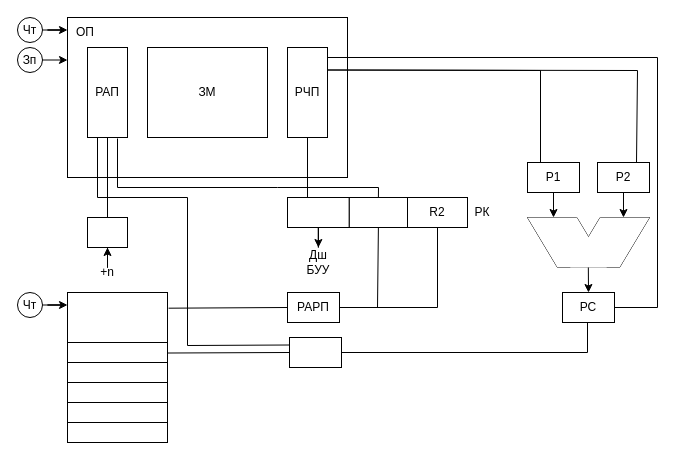
The diagram is 676 pixels wide and 460 high, and some of its shapes have lost their labels. The shapes that lost their labels are listed below. From the top down, each one's centre as x and y in pixels, then its label:
[107,232]: СчК
[317,212]: КОП
[378,212]: R1
[609,242]: АЛУ
[117,317]: РОНы
[315,352]: РЧРП
